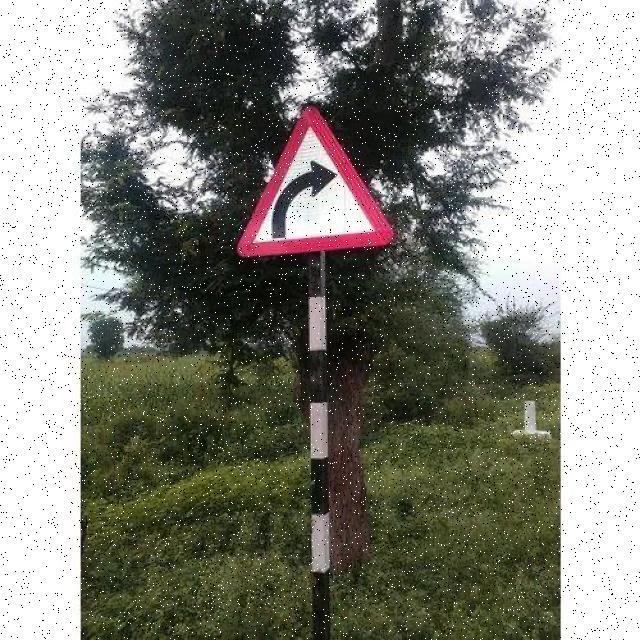Righthand_curve: (224, 105, 396, 262)
